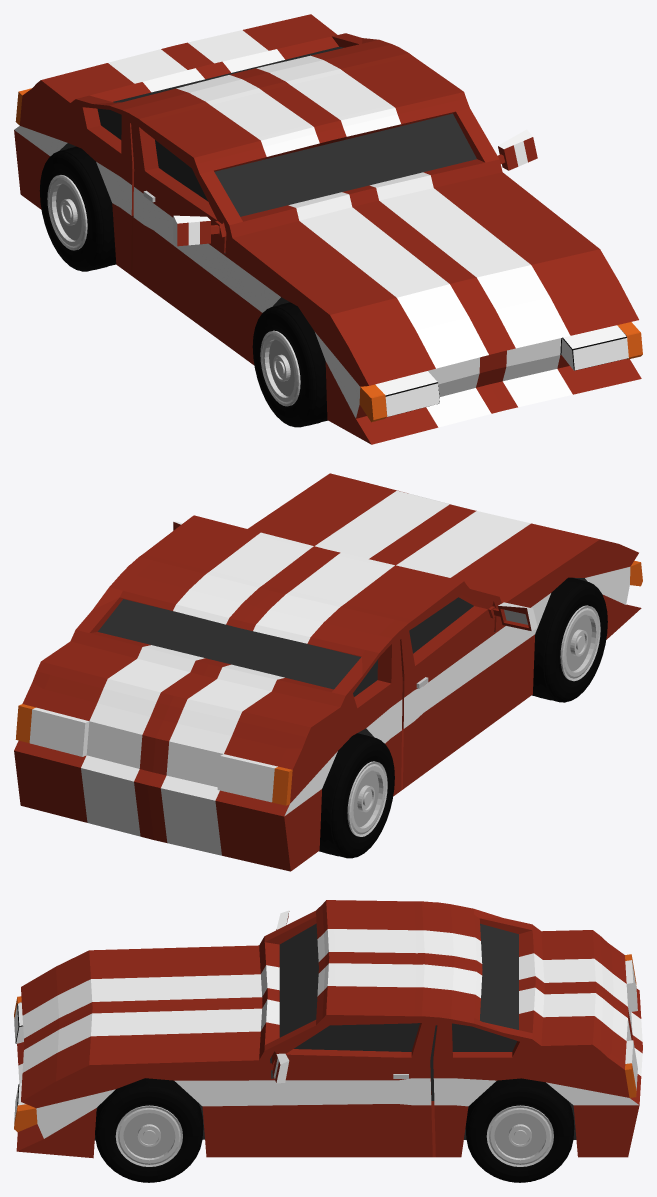
3 renders of one model, top to bottom at view 1: azimuth 30°, elevation 25°; view 2: azimuth 150°, elevation 25°; view 3: azimuth 270°, elevation 25°, orthographic. The views are drawn at different scales.
Visible parts, largest first — view 1: BODY46A, WHEEL.004, WHEEL.001; view 2: BODY46A, WHEEL.001, WHEEL.004; view 3: BODY46A, WHEEL.002, WHEEL.003.
Part boxes in pixels (bbox=[...]): BODY46A: bbox=[14, 14, 642, 444]; WHEEL.004: bbox=[39, 146, 116, 271]; WHEEL.001: bbox=[252, 302, 327, 427]; BODY46A: bbox=[14, 473, 642, 871]; WHEEL.001: bbox=[532, 577, 607, 702]; WHEEL.004: bbox=[319, 733, 394, 858]; BODY46A: bbox=[14, 900, 642, 1158]; WHEEL.002: bbox=[465, 1078, 574, 1182]; WHEEL.003: bbox=[95, 1078, 203, 1182].
Size of the model in its own units: 131 by 65.61 by 227.
